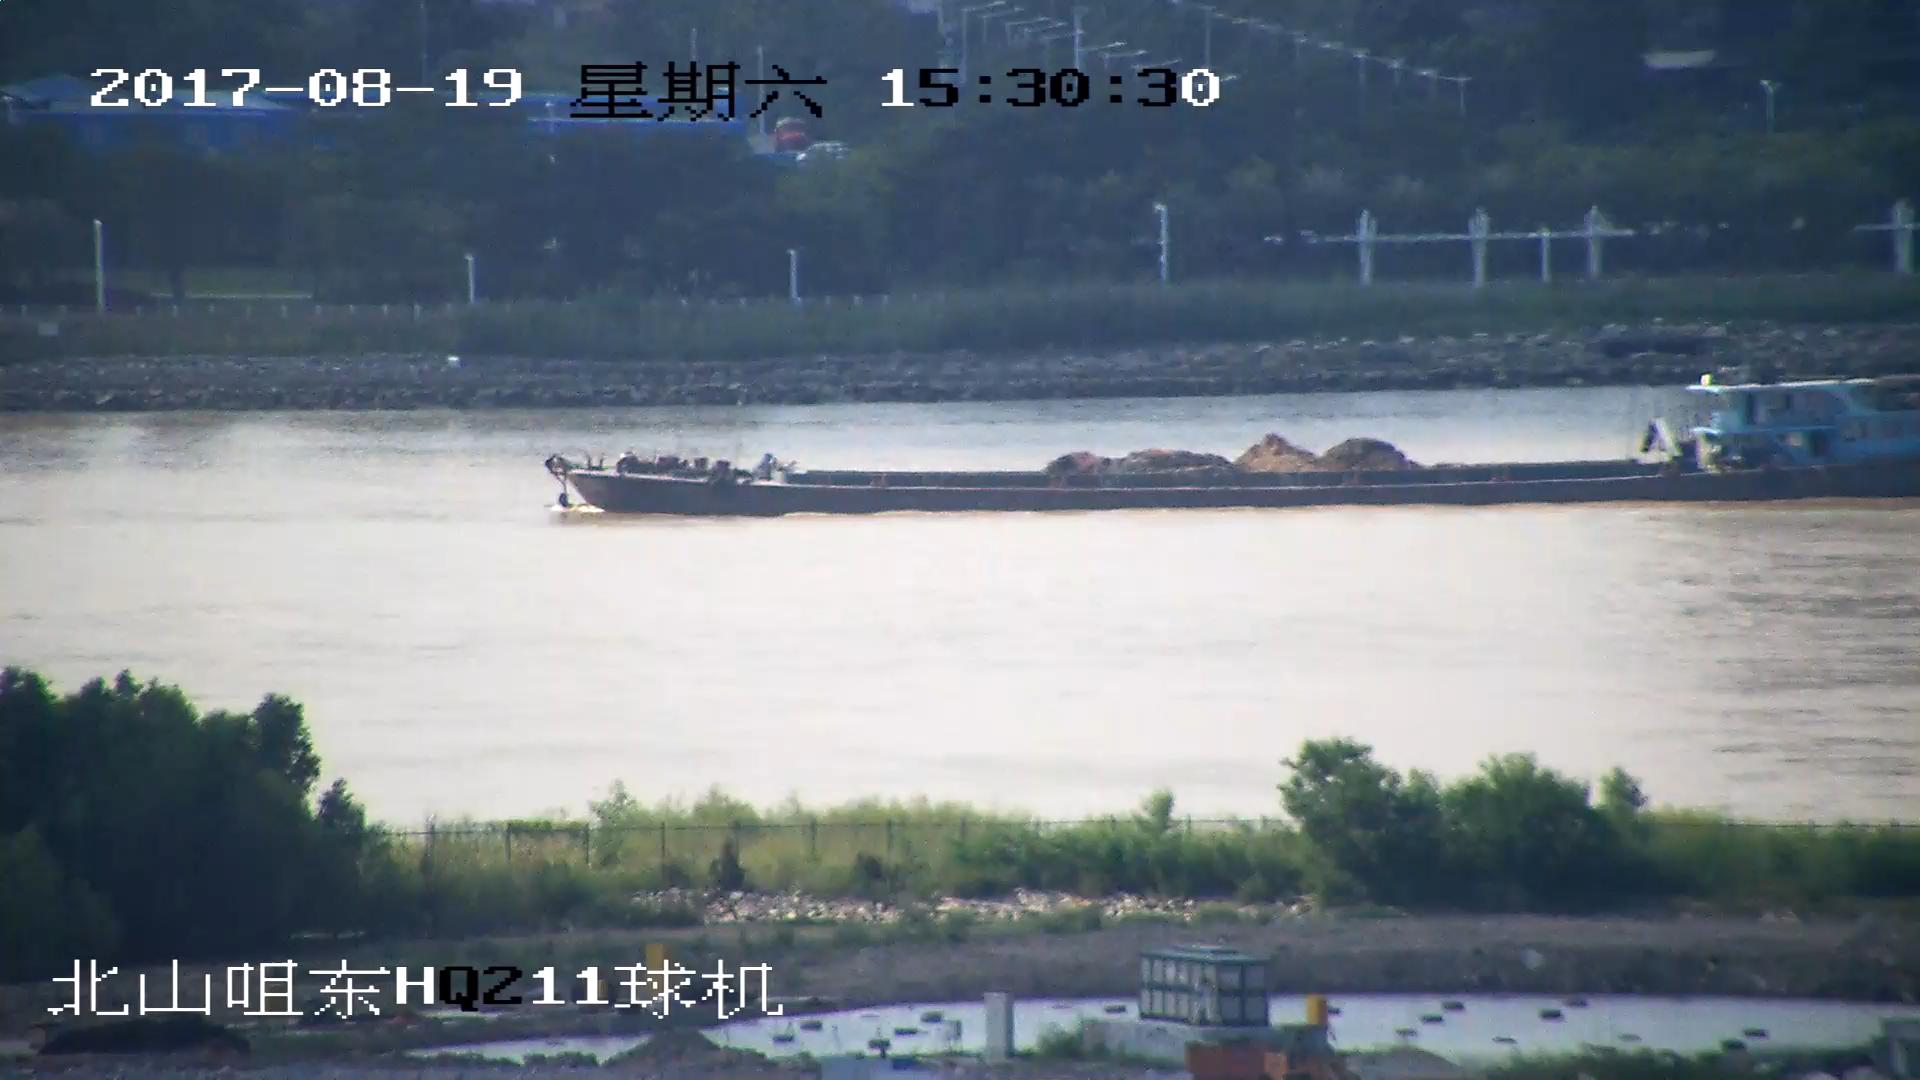ore carrier: (546, 379, 1920, 515)
